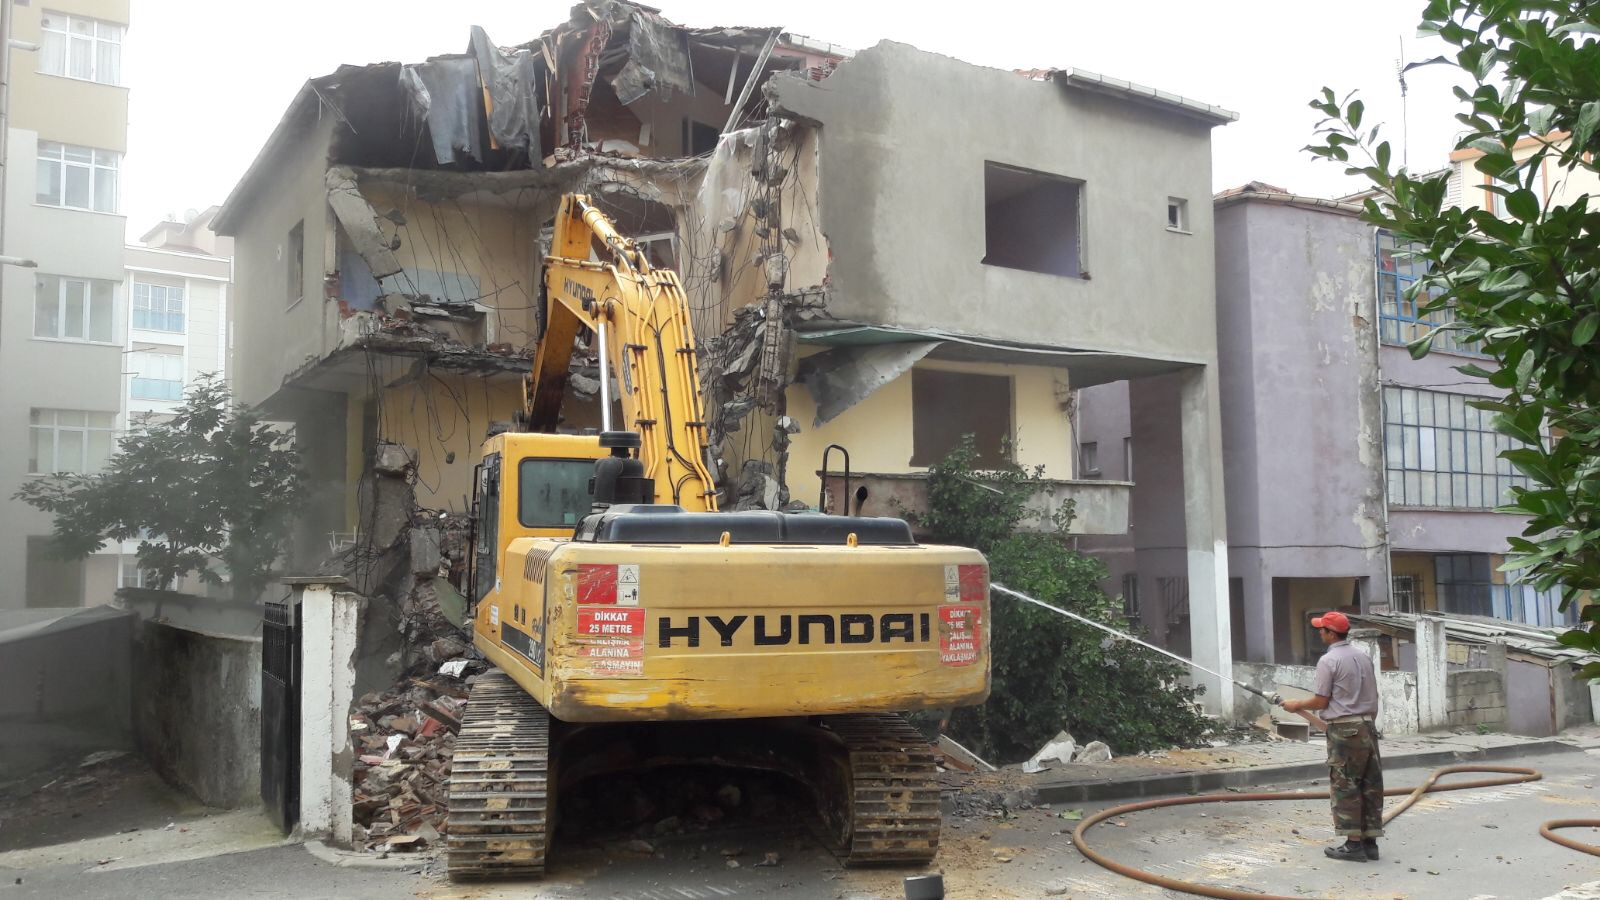copdegil: (247, 37, 1429, 900)
